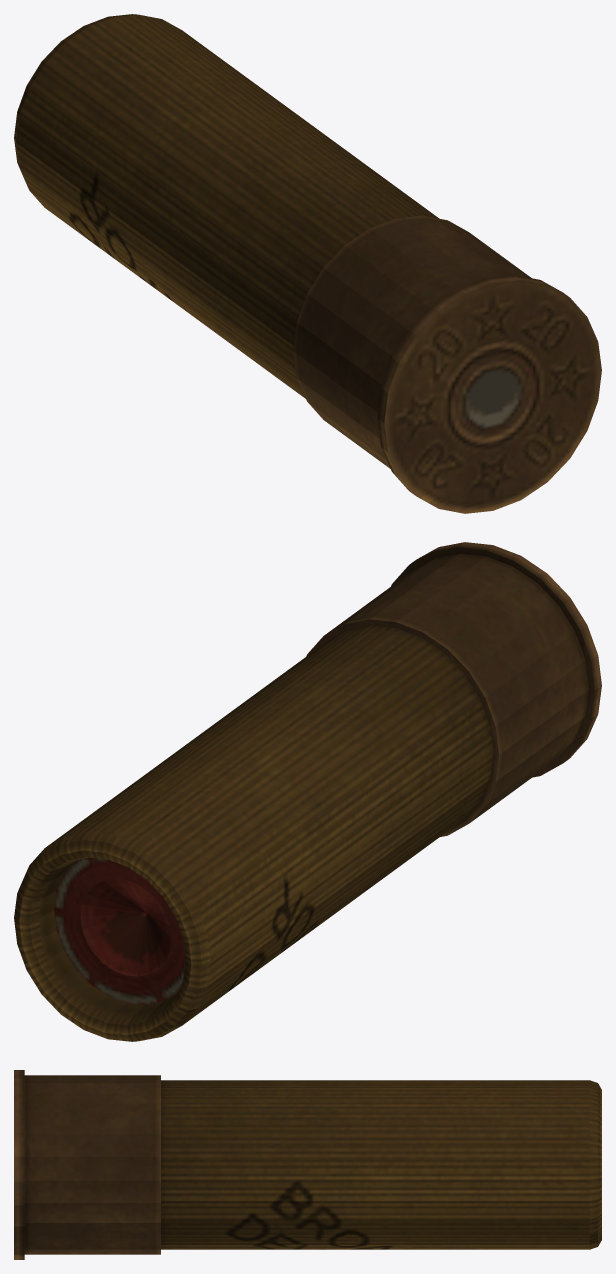
The picture shows the model from 3 angles, top to bottom: view 1: azimuth 30°, elevation 25°; view 2: azimuth 150°, elevation 25°; view 3: azimuth 270°, elevation 25°; orthographic projection. The views are drawn at different scales.
Parts seen in each view (by area): view 1: TW_5d6e6a5fa4b93614ec501745_PZ_Import; view 2: TW_5d6e6a5fa4b93614ec501745_PZ_Import; view 3: TW_5d6e6a5fa4b93614ec501745_PZ_Import.
Part boxes in pixels (x1,y1,x2,y2): TW_5d6e6a5fa4b93614ec501745_PZ_Import: (14,14,601,513); TW_5d6e6a5fa4b93614ec501745_PZ_Import: (14,542,601,1041); TW_5d6e6a5fa4b93614ec501745_PZ_Import: (14,1070,601,1259).
Size of the model in its own units: 0.0113 by 0.0347 by 0.0113.
Materials: 1 (1 with a texture image).
